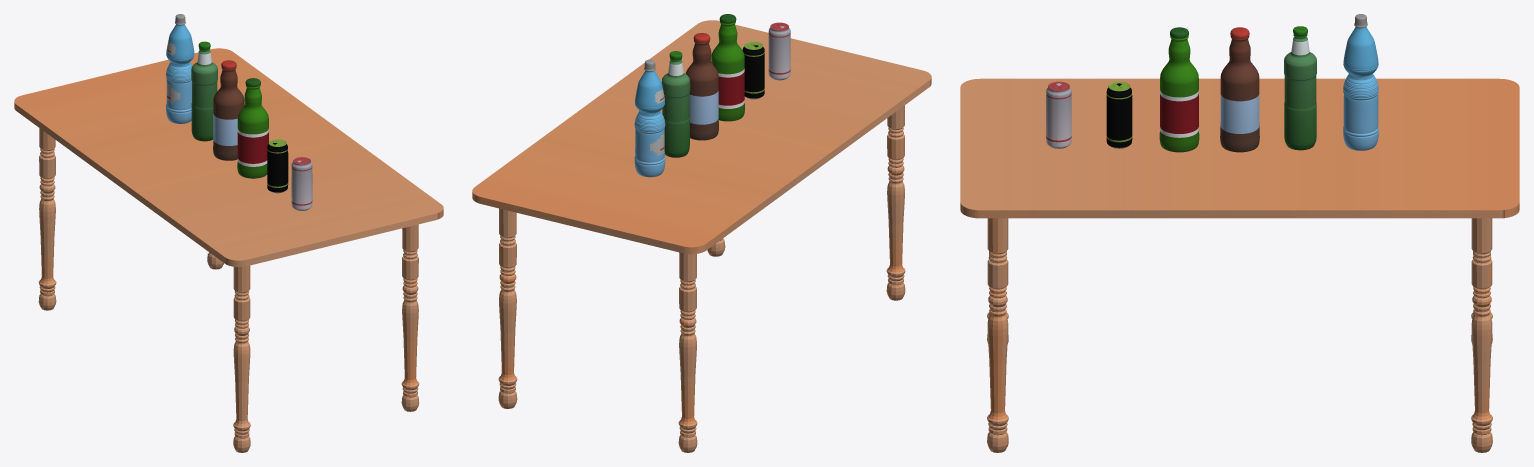
File: Everything.glb
The picture shows the model from 3 angles, left to right: view 1: azimuth 30°, elevation 25°; view 2: azimuth 150°, elevation 25°; view 3: azimuth 270°, elevation 25°; orthographic projection. The views are drawn at different scales.
Visible parts, largest first — view 1: Table, beer_green, Cisowianka, beer, Veroni, Monster.White, Monster; view 2: Table, Cisowianka, beer, beer_green, Veroni, Monster.White, Monster; view 3: Table, beer, Cisowianka, beer_green, Veroni, Monster, Monster.White.
Part boxes in pixels (x1,y1,x2,y2): Table: (14,48,443,452); beer_green: (237,78,268,178); Cisowianka: (166,14,194,123); beer: (213,60,244,160); Veroni: (191,41,217,141); Monster.White: (291,157,312,210); Monster: (267,139,288,193); Table: (472,20,931,452); Cisowianka: (634,59,665,177); beer: (685,33,718,140); beer_green: (711,14,744,121); Veroni: (661,51,690,157); Monster.White: (768,22,790,80); Monster: (742,41,764,99); Table: (960,78,1519,452); beer: (1220,27,1259,152); Cisowianka: (1343,14,1378,150); beer_green: (1159,27,1199,152); Veroni: (1284,26,1316,150); Monster: (1106,81,1132,148); Monster.White: (1046,81,1071,148).
Size of the model in its own units: 5.14 by 7 by 9.24.
2 materials, 2 textured.
